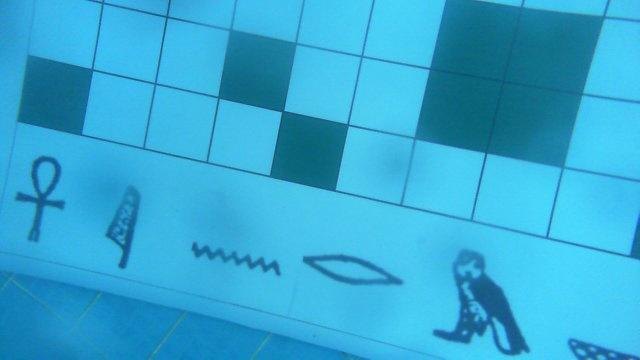Ankh: (13, 155, 66, 248)
Mouth: (301, 250, 404, 289)
Owl: (431, 247, 534, 358)
Reed: (107, 184, 141, 268)
Water: (192, 242, 280, 278)
